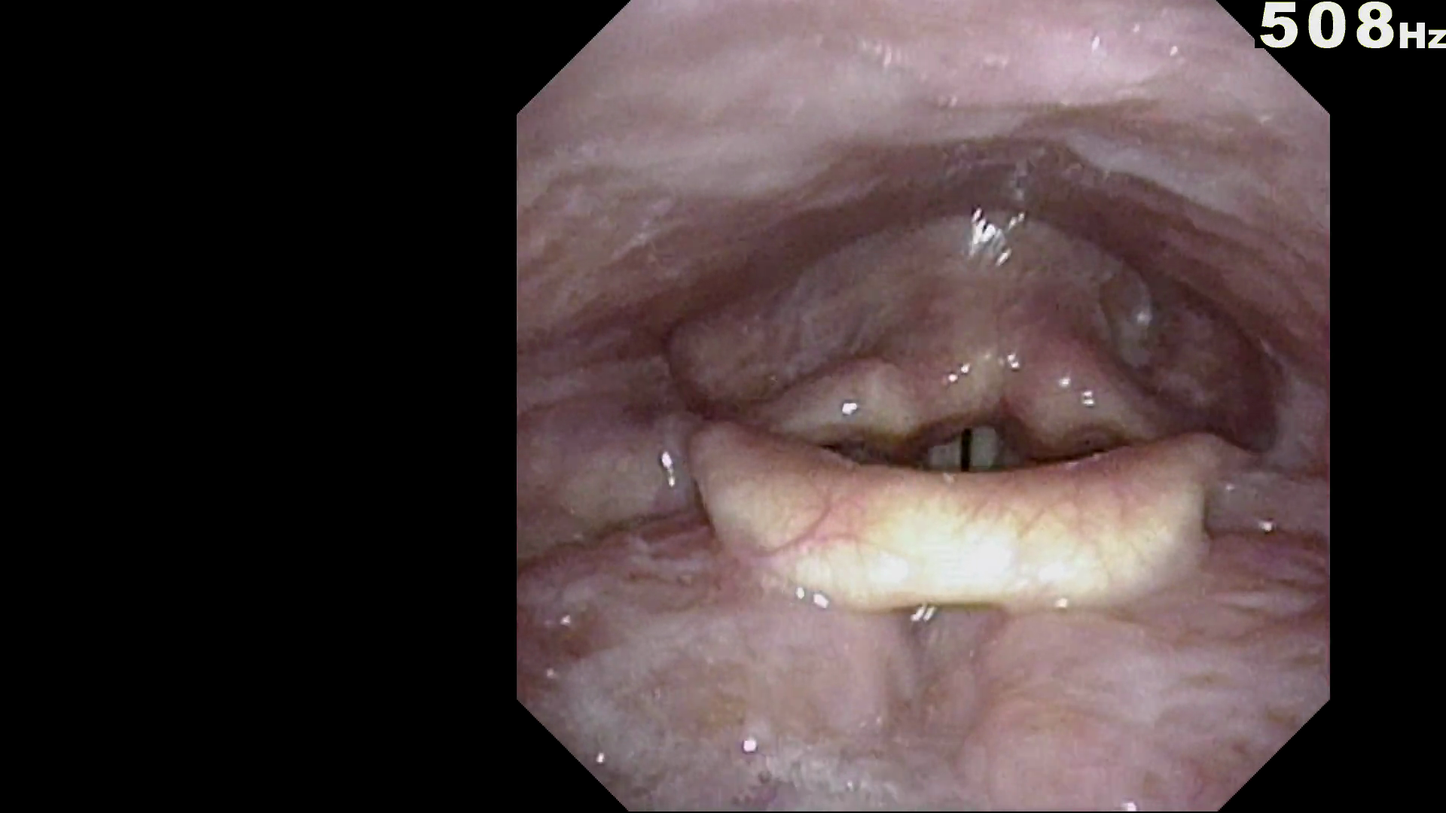epiglottis: (683, 373, 1256, 626)
trachea: (907, 353, 1053, 506)
